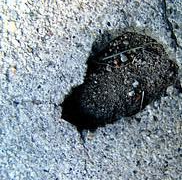Spalling: (58, 28, 180, 142)
